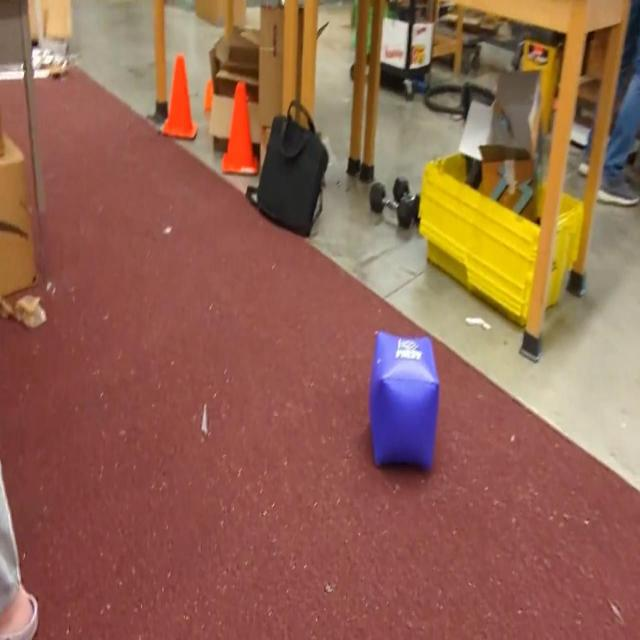frc_cube: (368, 328, 440, 472)
